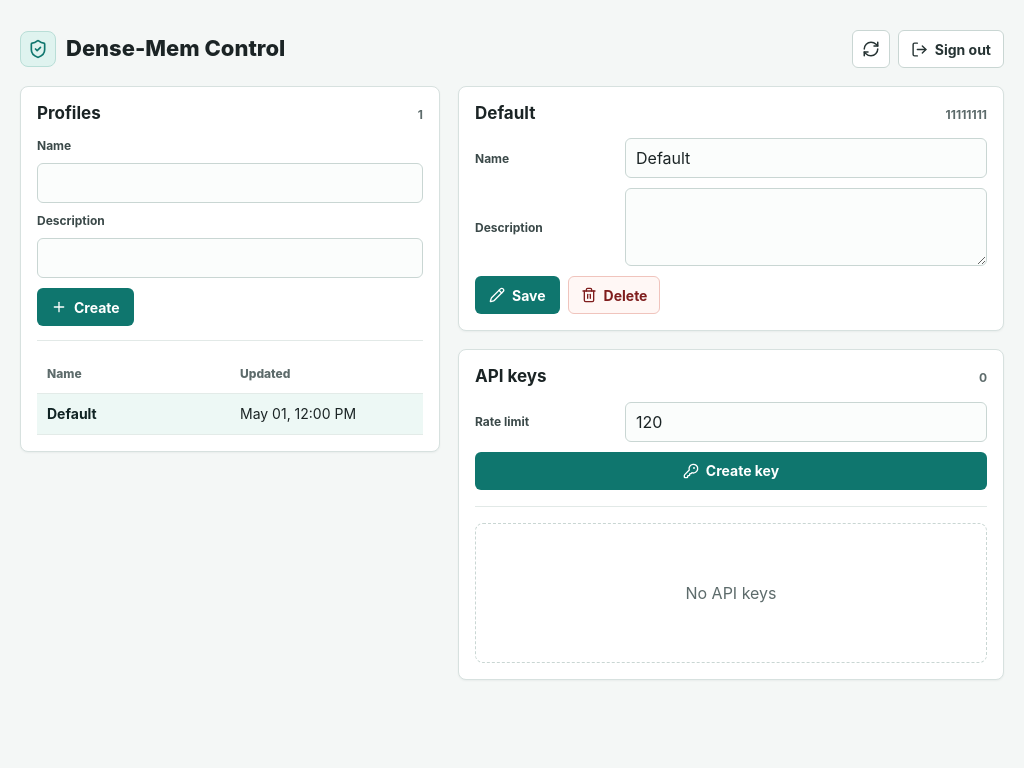
Test case: App › creates an API key and shows plaintext once
This screenshot has width=1024, height=768.
Check: the button "Default" is shown, box [47,405,97,423]
Click the button "Create key" at (731, 470), box [475,452,987,490]
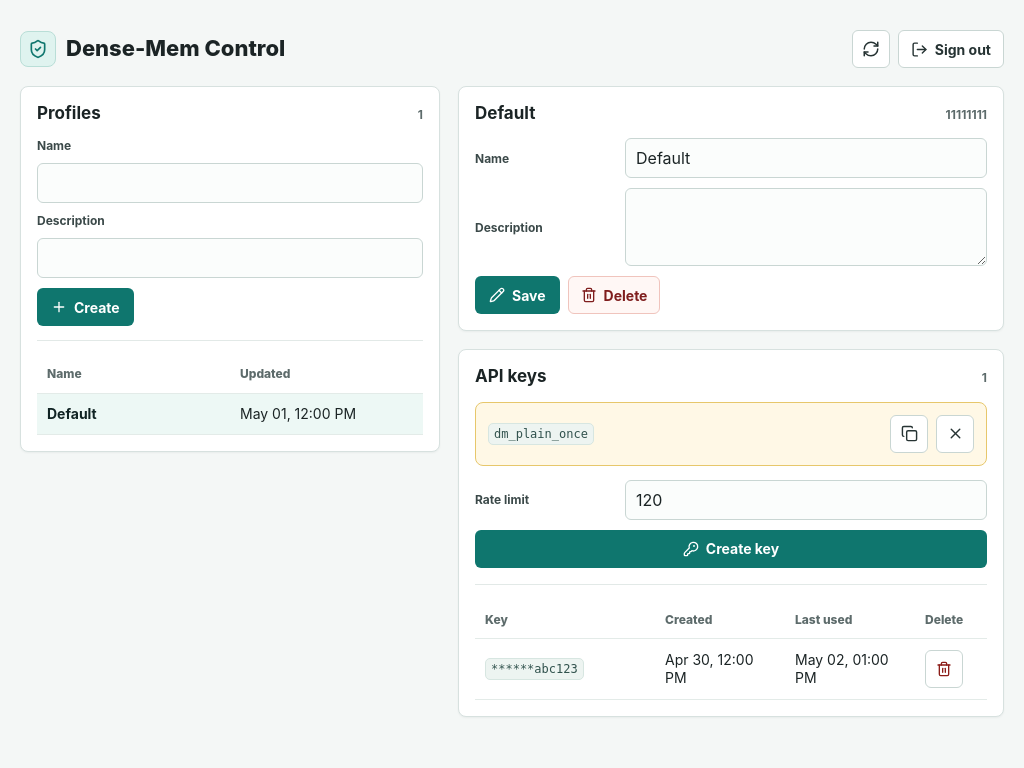
Check: the text "dm_plain_once" is shown, box [488,423,594,445]
Click the button named "dismiss api key" at (955, 434), box [936,414,974,452]
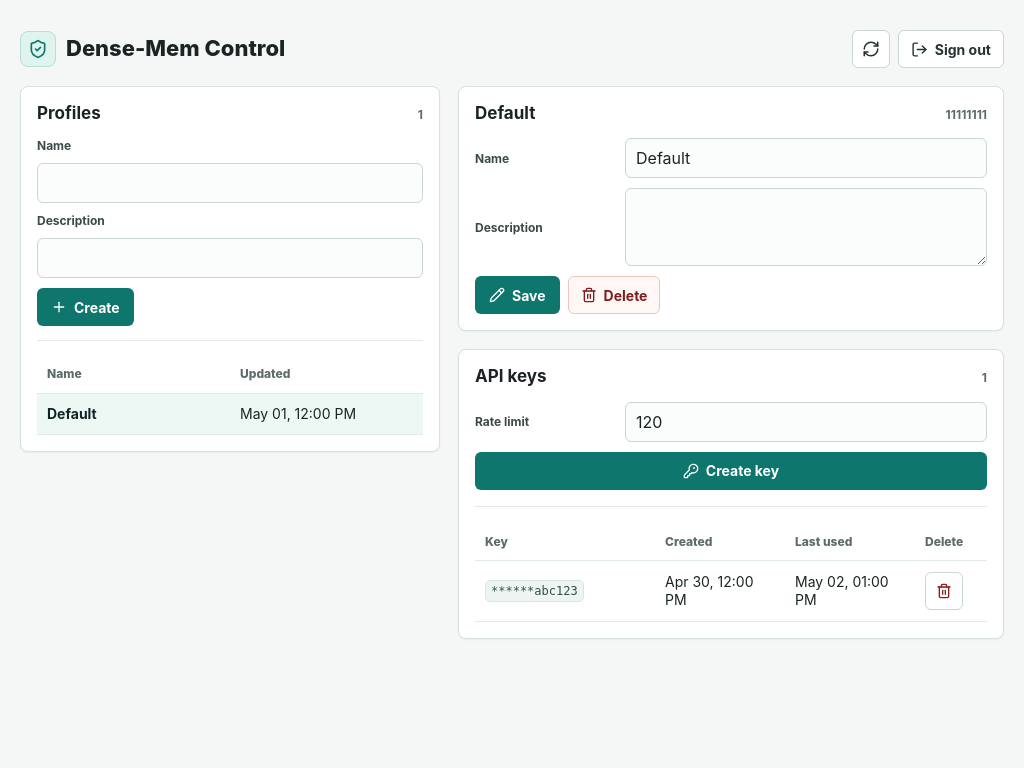
Check: the text "dm_plain_once" is gone
